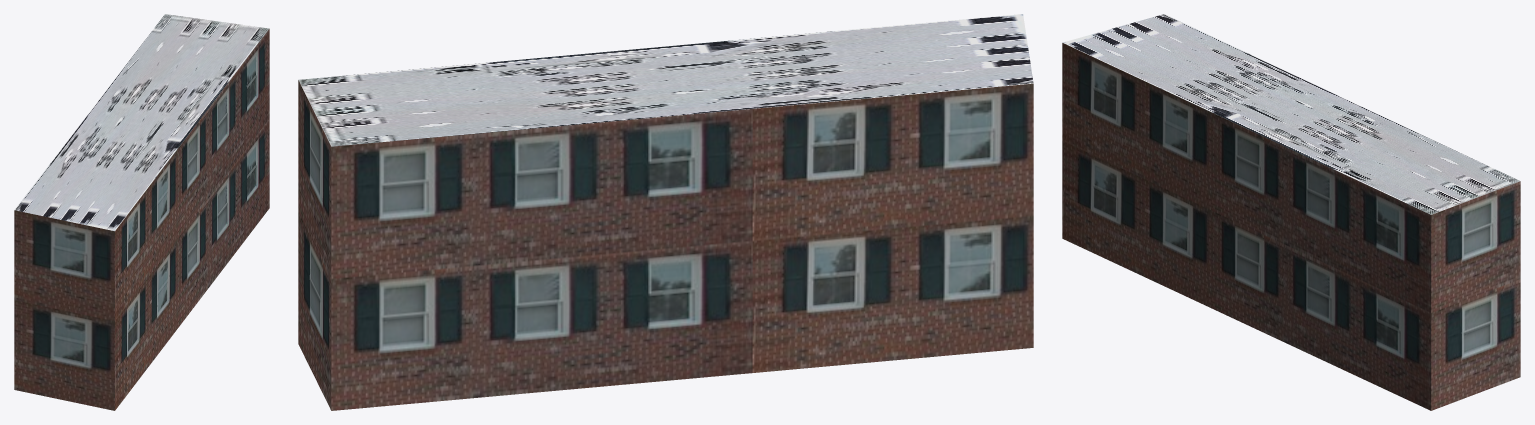
File: ResTex__2813.fbx
3 renders of one model, left to right at view 1: azimuth 30°, elevation 25°; view 2: azimuth 150°, elevation 25°; view 3: azimuth 270°, elevation 25°, orthographic. The views are drawn at different scales.
Visible parts, largest first — view 1: CityEngineMaterial_14_m, CityEngineMaterial_4_m; view 2: CityEngineMaterial_14_m, CityEngineMaterial_4_m; view 3: CityEngineMaterial_14_m, CityEngineMaterial_4_m.
Part boxes in pixels (bbox=[...]): CityEngineMaterial_14_m: bbox=[14, 29, 269, 410]; CityEngineMaterial_4_m: bbox=[14, 14, 269, 231]; CityEngineMaterial_14_m: bbox=[298, 80, 1033, 410]; CityEngineMaterial_4_m: bbox=[298, 14, 1033, 146]; CityEngineMaterial_14_m: bbox=[1062, 43, 1520, 410]; CityEngineMaterial_4_m: bbox=[1063, 14, 1520, 214].
Size of the model in its own units: 13.2 by 6 by 12.72.
Materials: 2 (2 with a texture image).
